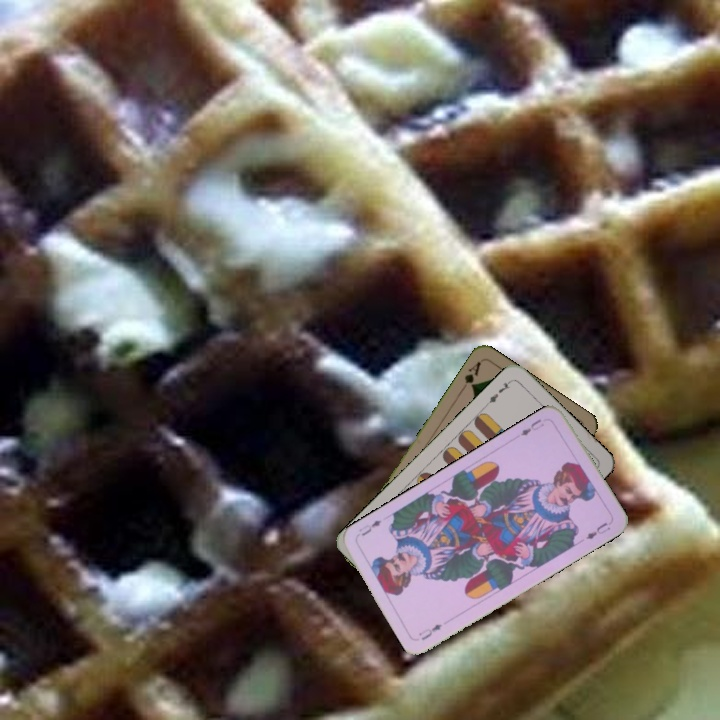E7: (482, 376, 514, 408)
EU: (414, 620, 445, 643), (517, 415, 547, 438)
GA: (457, 357, 484, 394)
